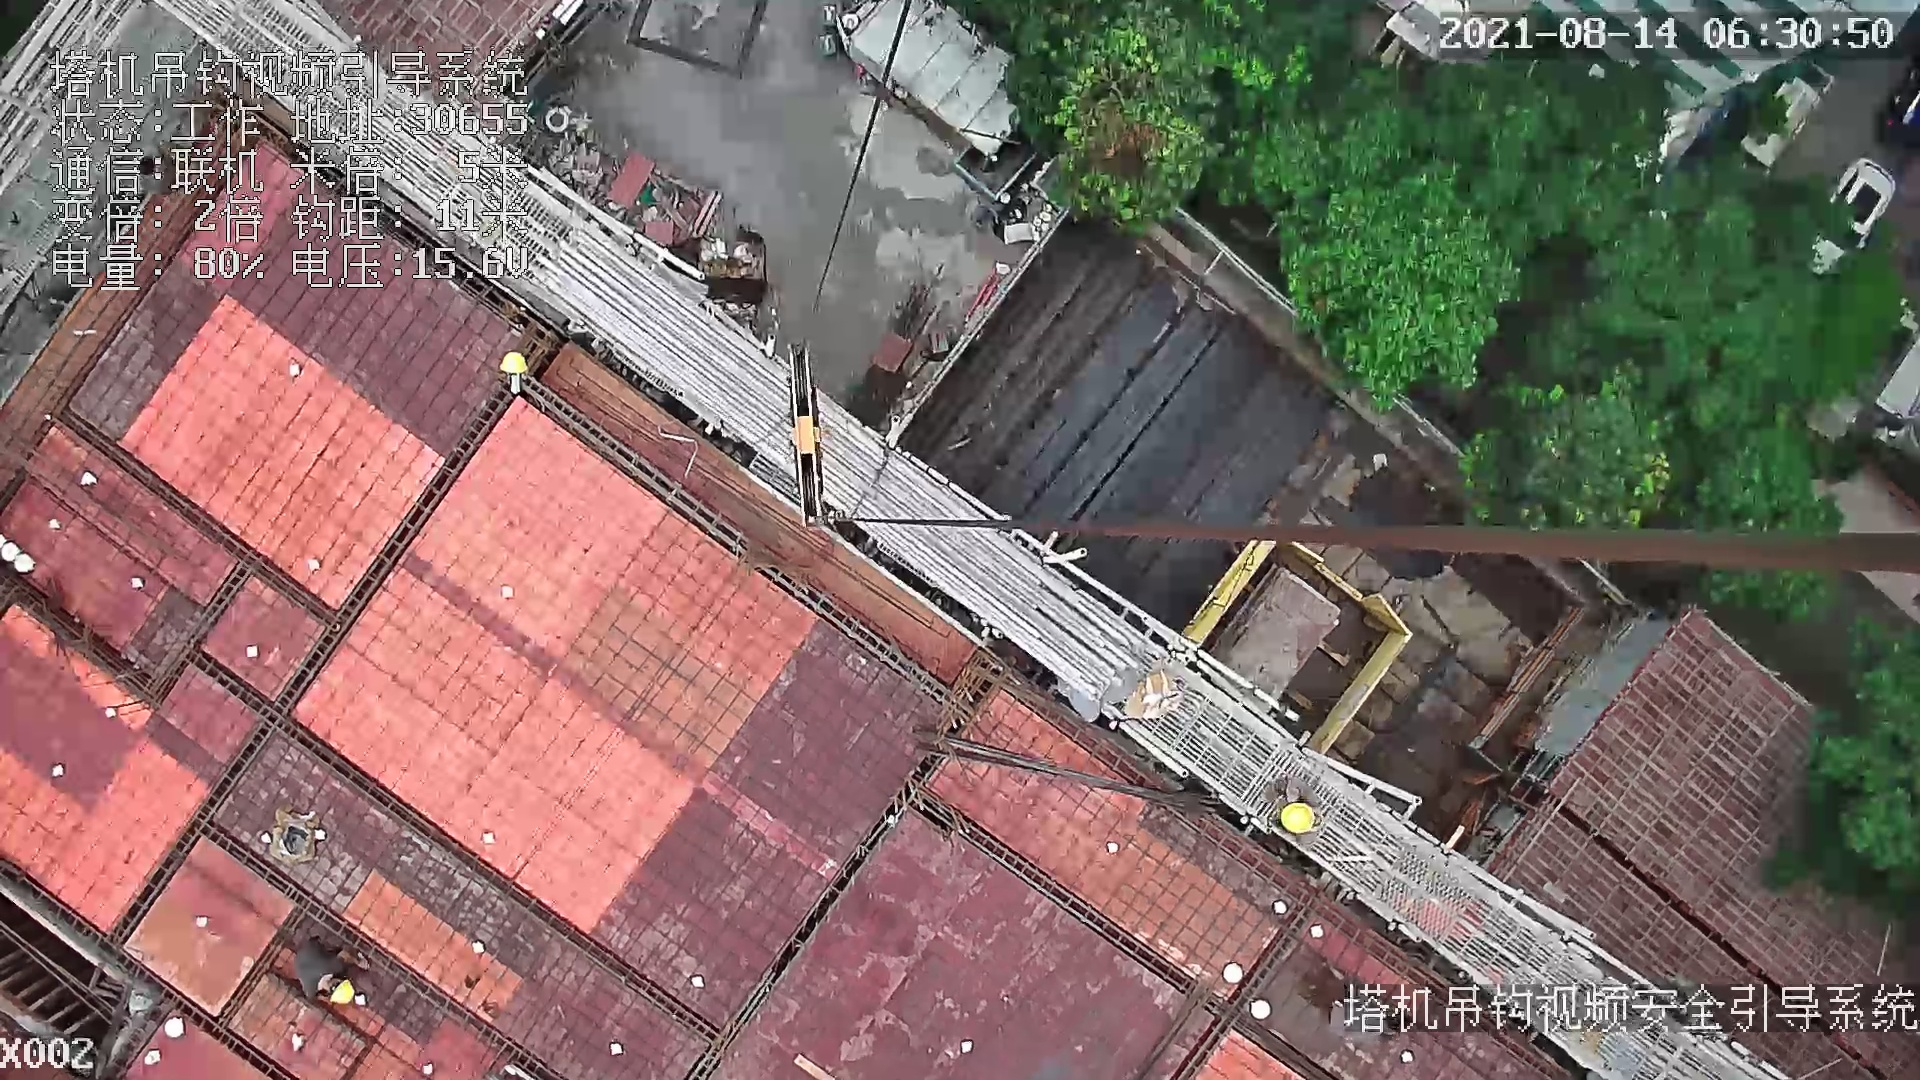helmet: (1281, 802, 1318, 837), (498, 353, 535, 375), (329, 980, 353, 1008)
hook: (772, 339, 827, 523)
person: (282, 932, 370, 1010), (1236, 774, 1328, 847)
rebar: (914, 231, 1347, 627)
